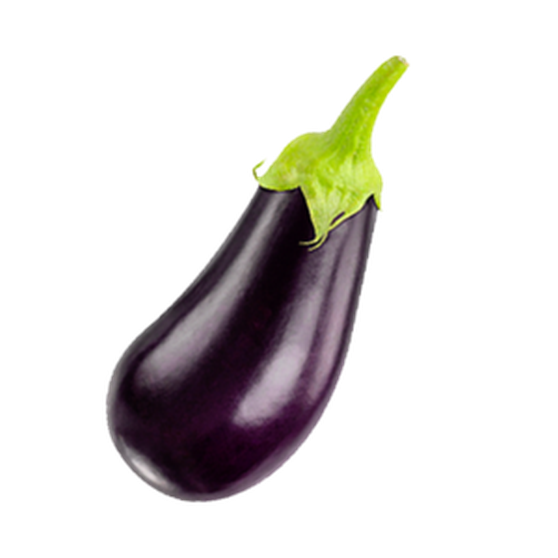eggplant: (111, 117, 381, 502)
